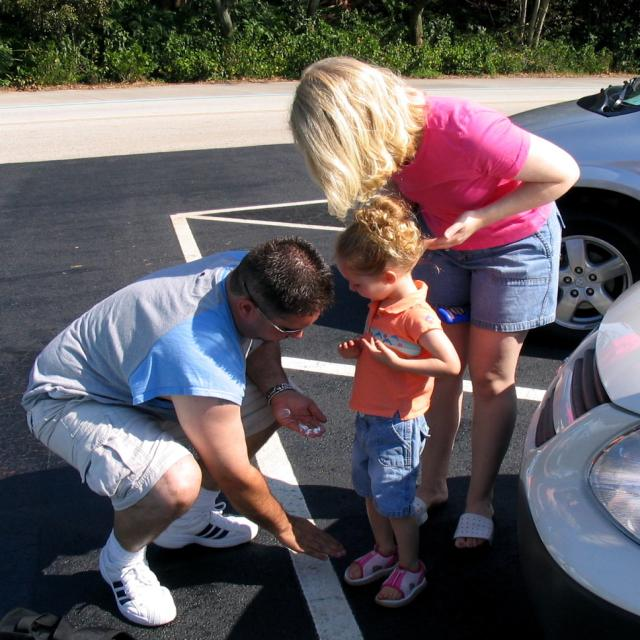Pedestrians: (287, 57, 580, 550), (22, 239, 338, 626), (335, 197, 460, 614)
